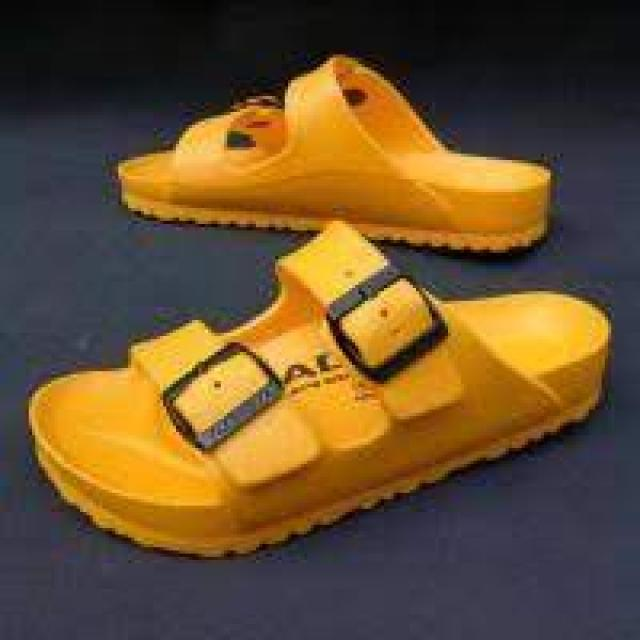shoe: (23, 218, 610, 557), (115, 57, 552, 259)
